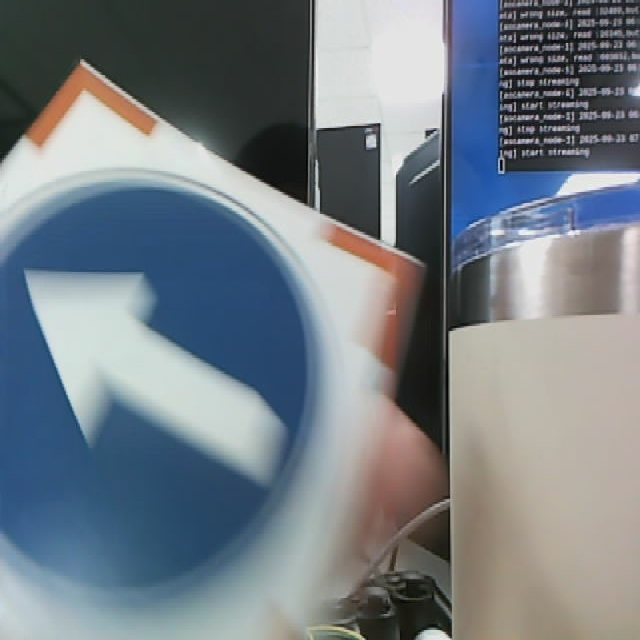strait: (4, 57, 427, 640)
